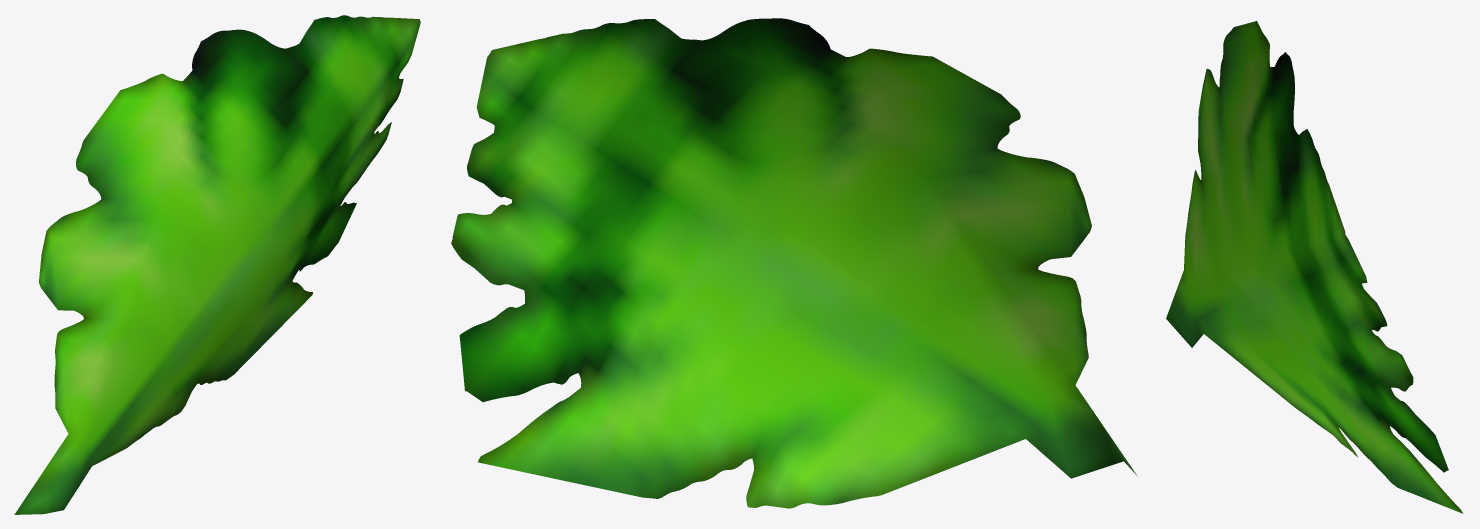
File: Aku_pverde.obj
The picture shows the model from 3 angles, left to right: view 1: azimuth 30°, elevation 25°; view 2: azimuth 150°, elevation 25°; view 3: azimuth 270°, elevation 25°; orthographic projection. The views are drawn at different scales.
Parts seen in each view (by area): view 1: AkuAku.004; view 2: AkuAku.004; view 3: AkuAku.004.
Boxes of the visible parts, box(x1,y1,x2,y2) form: AkuAku.004: box(14, 15, 420, 514); AkuAku.004: box(451, 18, 1136, 508); AkuAku.004: box(1166, 21, 1463, 513).
Size of the model in its own units: 8.44 by 6.97 by 4.52.
